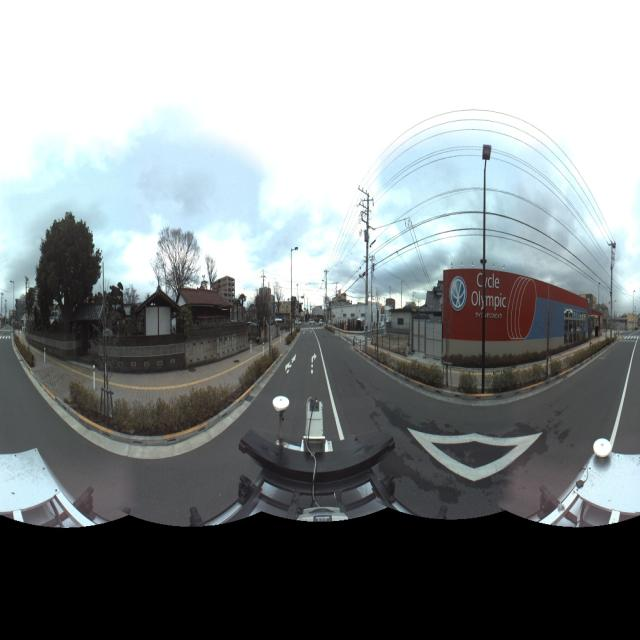b_1: (212, 268, 240, 325)
